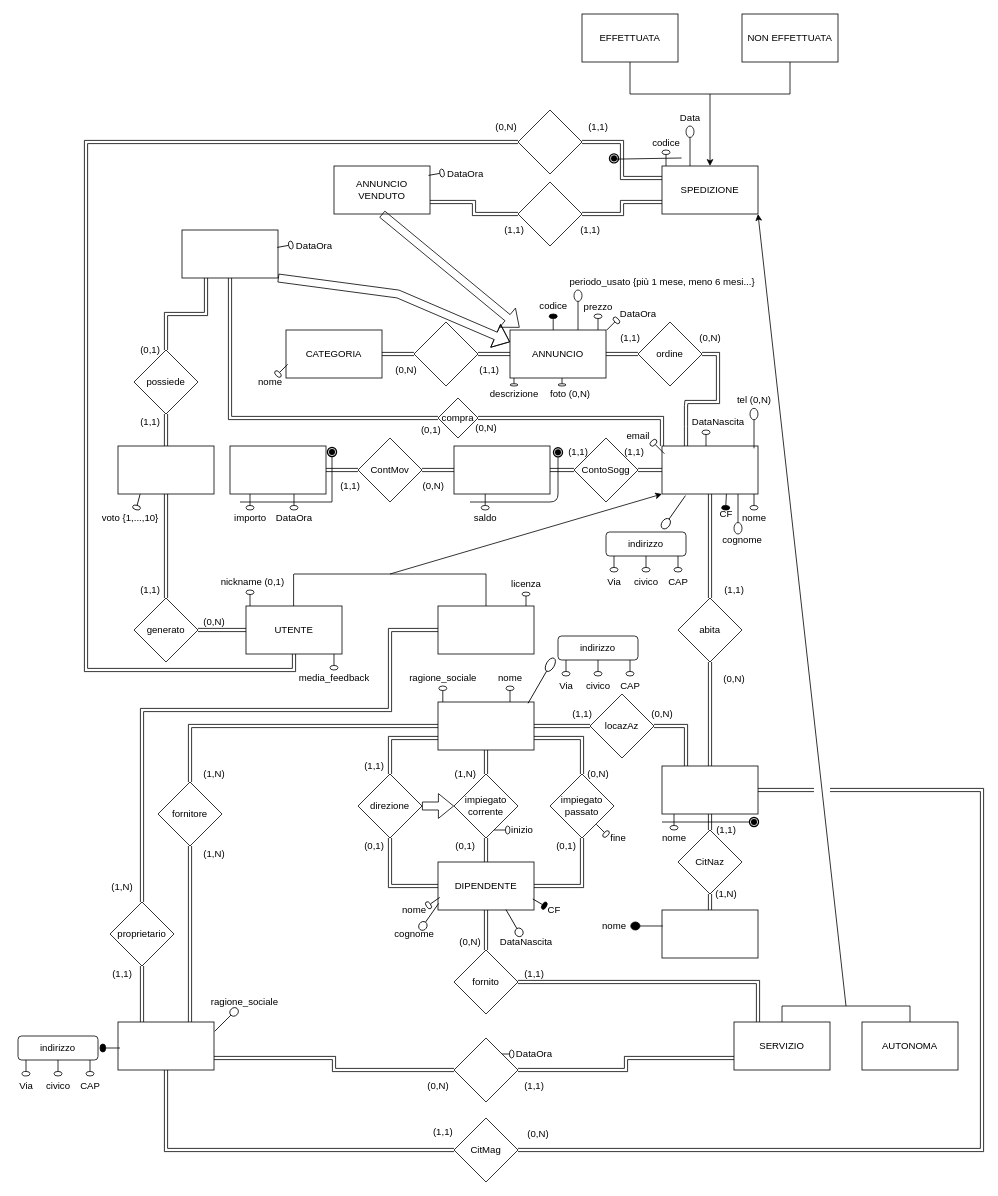
This 998x1196 diagram has some shape labels left out. Each missing label, with the centre of its shape:
"ANNUNCIO ACQUISTATO" belongs at pixel 229 253.
"appartiene" belongs at pixel 549 141.
"AZIENDA" belongs at pixel 485 725.
"CITTA'" belongs at pixel 709 789.
"consegna" belongs at pixel 549 213.
"CONTO" belongs at pixel 501 469.
"DIRETTORE MAGAZZINO" belongs at pixel 485 629.
"FEEDBACK" belongs at pixel 165 469.
"MAGAZZINO" belongs at pixel 165 1045.
"MOVIMENTO" belongs at pixel 277 469.
"NAZIONE" belongs at pixel 709 933.
"prelevazione" belongs at pixel 485 1069.
"SOGGETTO" belongs at pixel 709 469.
"tipo" belongs at pixel 445 353.
